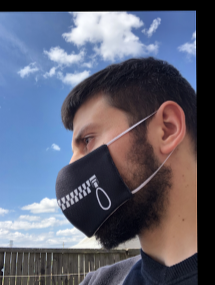with_mask: (55, 117, 146, 242)
